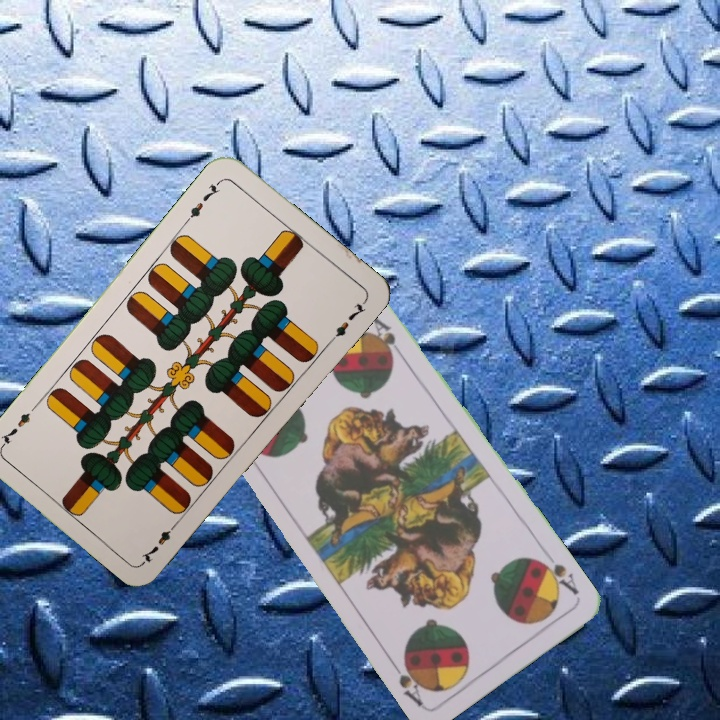E7: (136, 516, 182, 566), (181, 176, 224, 225)
SA: (533, 548, 582, 598)
